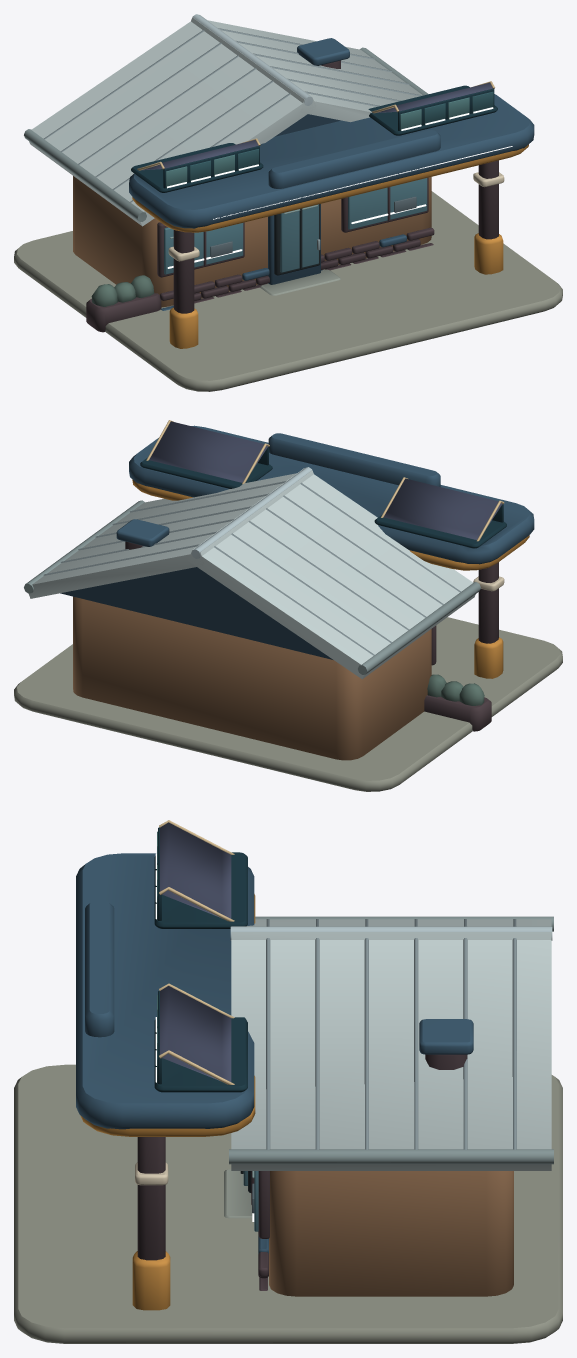
The model's file is alpine_fuel.glb.
The picture shows the model from 3 angles, top to bottom: view 1: azimuth 30°, elevation 25°; view 2: azimuth 150°, elevation 25°; view 3: azimuth 270°, elevation 25°; orthographic projection. The views are drawn at different scales.
Parts seen in each view (by area): view 1: Fuel; view 2: Fuel; view 3: Fuel.
Part boxes in pixels (x1=…): Fuel: x1=14, y1=14, x2=562, y2=391; Fuel: x1=14, y1=420, x2=562, y2=791; Fuel: x1=14, y1=820, x2=562, y2=1343.
Size of the model in its own units: 8.54 by 4.18 by 7.3.
